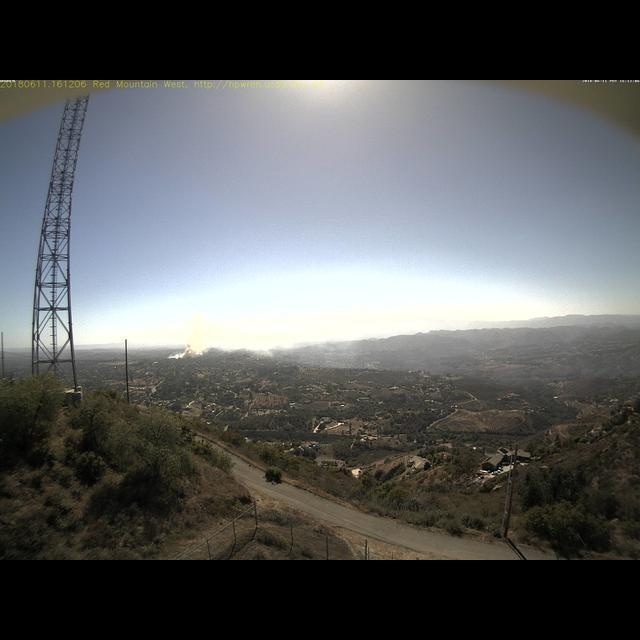Smoke: (164, 329, 358, 362)
